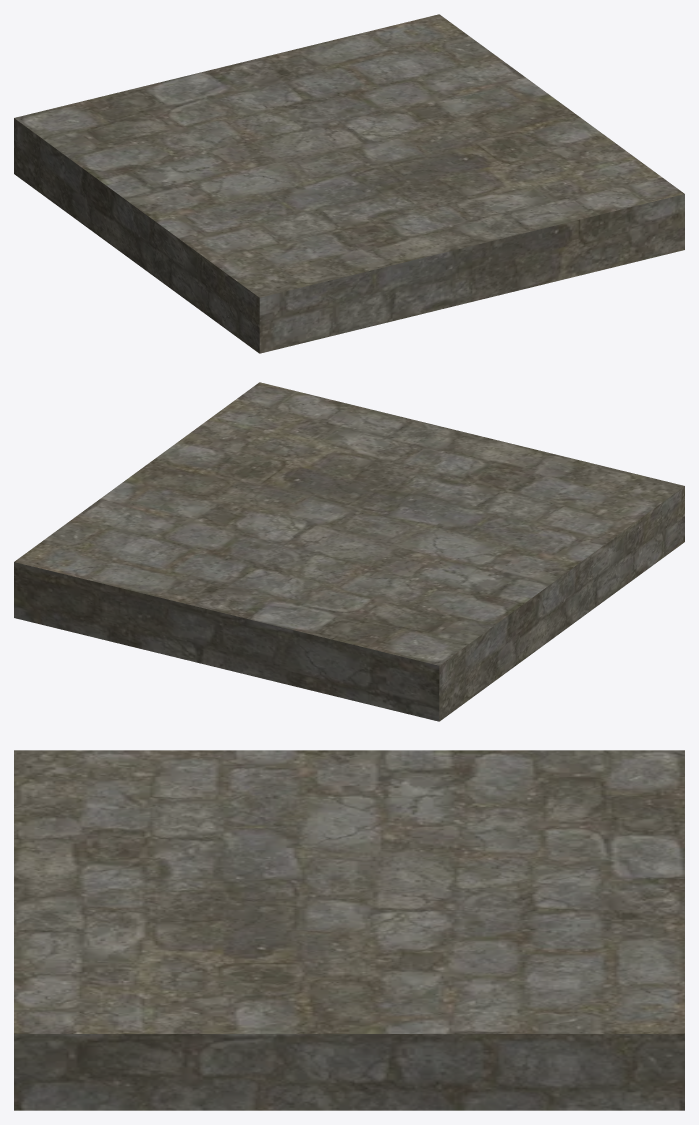
Rendered from SM_pal_b00grass_Lodenfel_Floor_01_0bffd0.glb.
3 renders of one model, top to bottom at view 1: azimuth 30°, elevation 25°; view 2: azimuth 150°, elevation 25°; view 3: azimuth 270°, elevation 25°, orthographic. The views are drawn at different scales.
Size of the model in its own units: 4 by 0.5032 by 4.
1 material, 1 textured.
